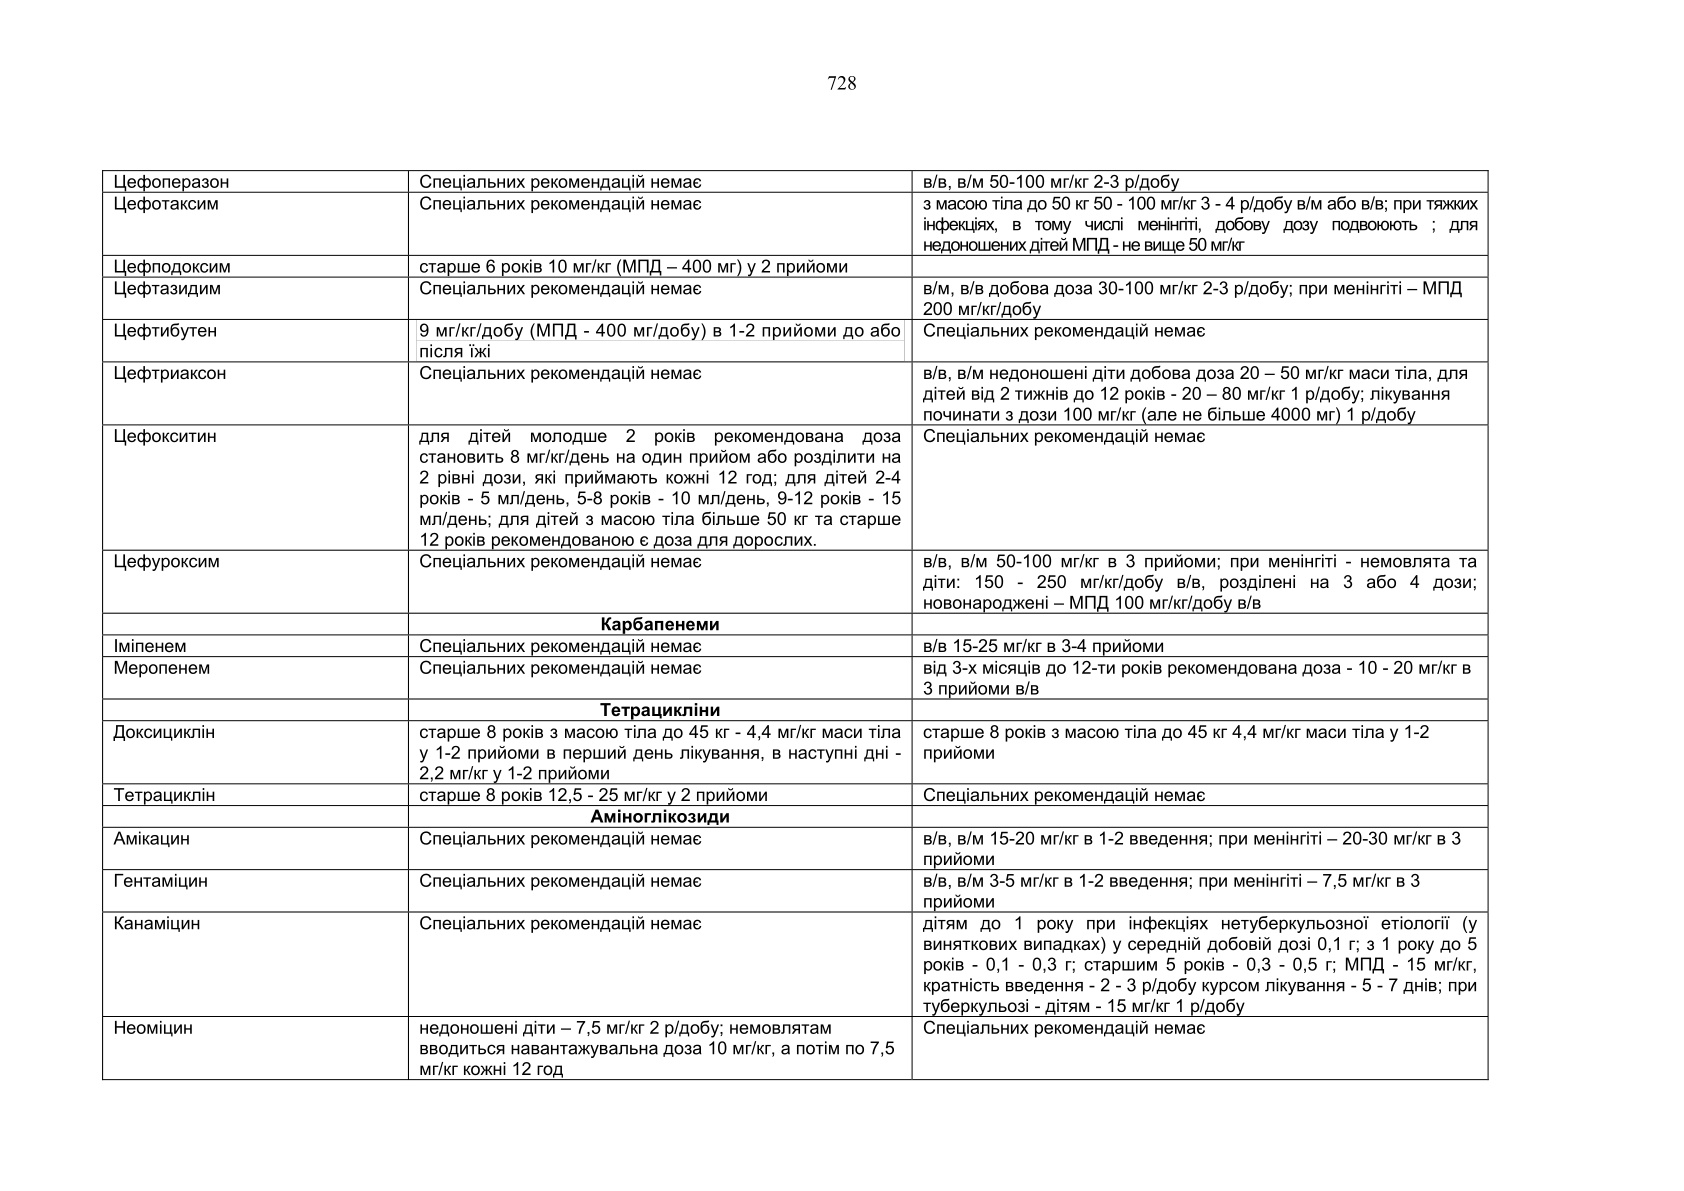full_lined: (100, 169, 1489, 1081)
